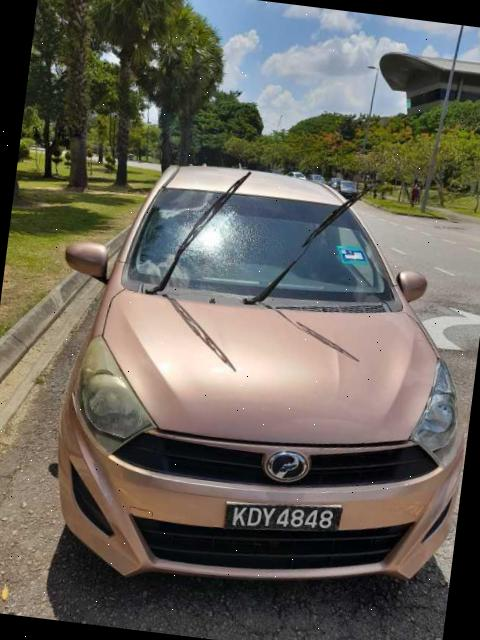License_Plate: (223, 490, 344, 543)
car: (27, 146, 480, 617)
